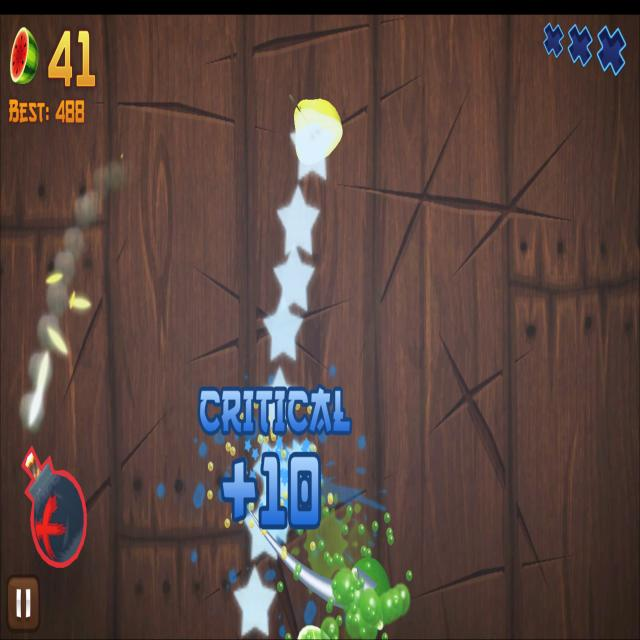bomb: (21, 443, 89, 569)
